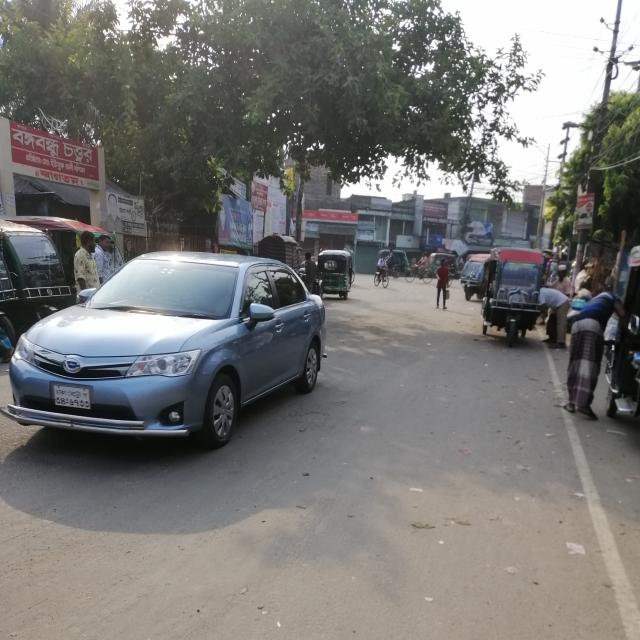Car: (5, 254, 338, 465)
